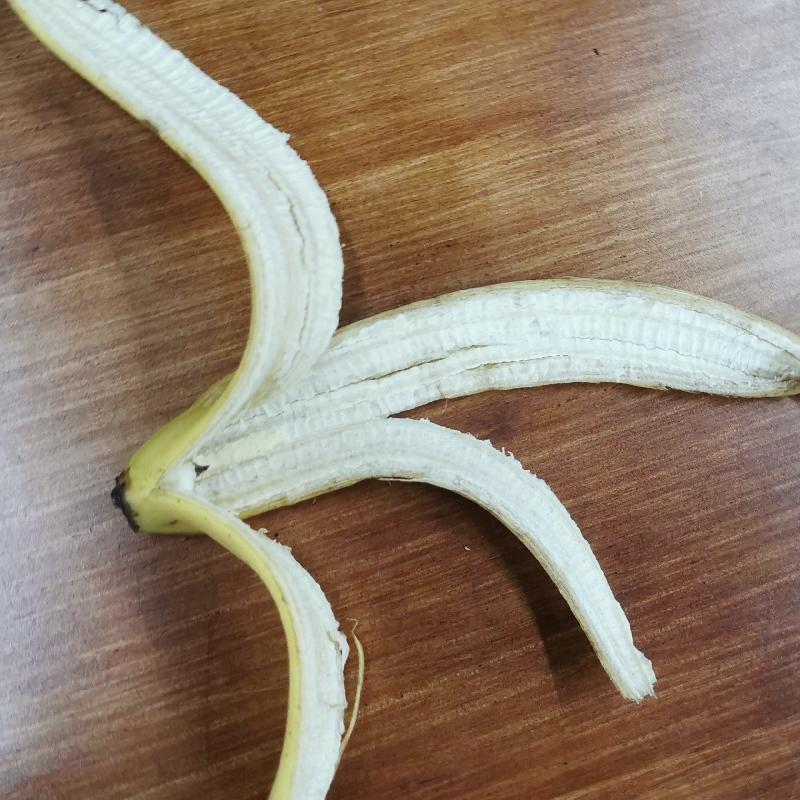bananas: (4, 4, 799, 799)
